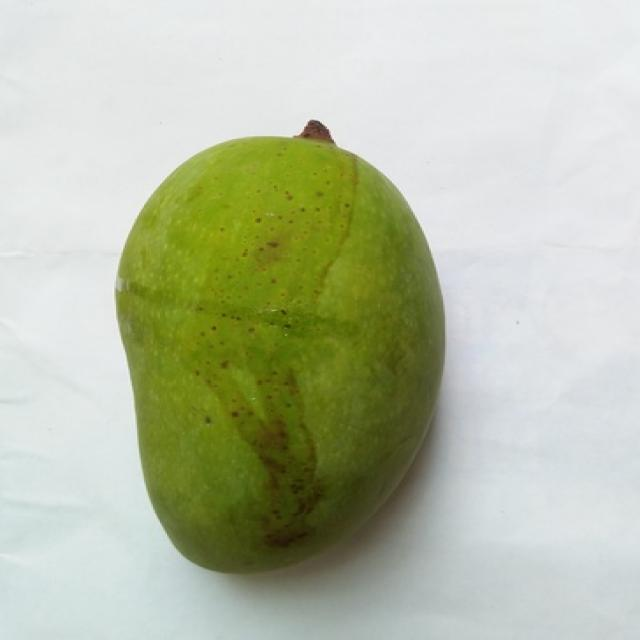Mango: (116, 122, 443, 571)
